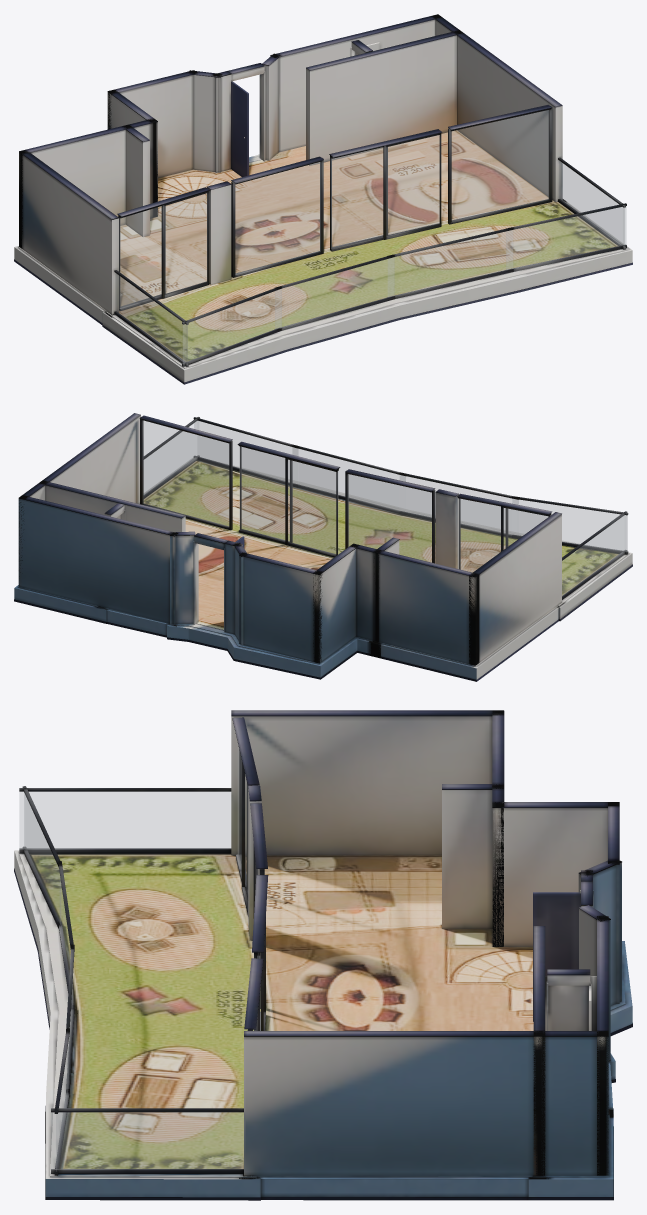
3 views of the same model, one above another, from view 1: azimuth 30°, elevation 25°; view 2: azimuth 150°, elevation 25°; view 3: azimuth 270°, elevation 25° (orthographic). The views are drawn at different scales.
Parts seen in each view (by area): view 1: plan, glass2_m, glass3_m, glass1_m, glass0_m, railg3_m, railg2_m, railg4_m, railg5_m, railg1_m, railg0_m; view 2: plan, glass2_m, glass3_m, glass1_m, glass0_m, railg3_m, railg5_m, railg2_m, railg4_m, railg1_m, railg0_m; view 3: plan, railg1_m, railg0_m, railg5_m, glass0_m.
Boxes of the visible parts, x1,y1,x2,y2 form: plan: [14, 14, 632, 384]; glass2_m: [331, 135, 439, 248]; glass3_m: [452, 110, 548, 220]; glass1_m: [235, 162, 320, 273]; glass0_m: [119, 193, 206, 307]; railg3_m: [388, 230, 512, 296]; railg2_m: [506, 206, 626, 269]; railg4_m: [275, 257, 394, 328]; railg5_m: [183, 289, 281, 363]; railg1_m: [115, 273, 187, 363]; railg0_m: [559, 161, 624, 246]; plan: [14, 413, 632, 681]; glass2_m: [239, 446, 338, 554]; glass3_m: [143, 420, 228, 526]; glass1_m: [348, 474, 431, 562]; glass0_m: [458, 499, 547, 572]; railg3_m: [292, 447, 405, 512]; railg5_m: [512, 499, 627, 551]; railg2_m: [194, 421, 298, 481]; railg4_m: [400, 475, 518, 535]; railg1_m: [562, 515, 625, 596]; railg0_m: [144, 421, 198, 494]; plan: [14, 710, 632, 1200]; railg1_m: [19, 792, 230, 848]; railg0_m: [51, 1112, 243, 1169]; railg5_m: [24, 793, 60, 925]; glass0_m: [238, 745, 247, 895].
Size of the model in its own units: 11.47 by 2.62 by 9.07.
2 materials, 1 textured.
